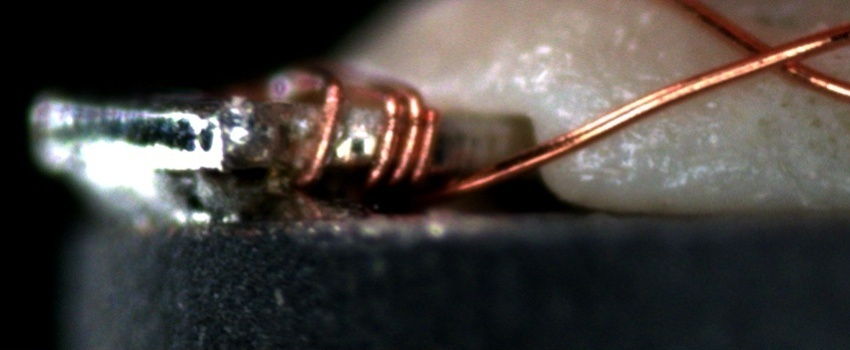CL: (723, 26, 827, 85)
TE: (278, 61, 448, 195)
